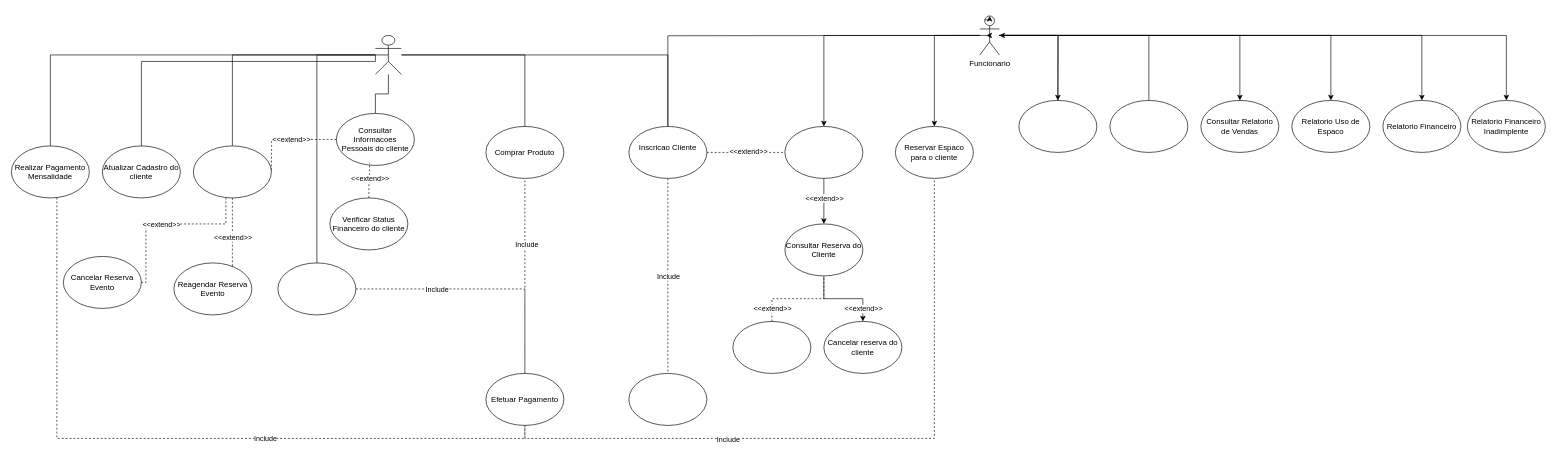
Some shapes in this 1557 by 469 pixel diagram are drawn without their labels. The shapes that lost their labels are listed below. From the top down, each one's centre as x and y in pixels, then its label:
At (388,54): "Cliente".
At (1057,126): "Emitir Nota FIscal".
At (1148,126): "Consultar Relatório de Participação".
At (232,171): "Eventos reservados pelo cliente".
At (823,152): "Gerenciar Cliente".
At (316,288): "Reservar Evento".
At (771,347): "Reagendar Reserva do Cliente".
At (667,399): "Últimas inscrições do cliente".
